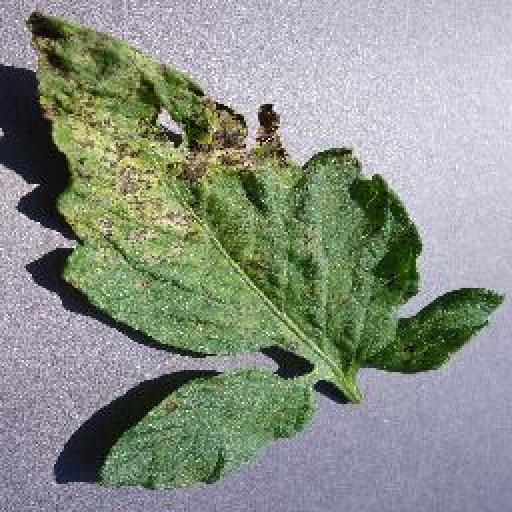Septoria: (26, 8, 505, 376)
